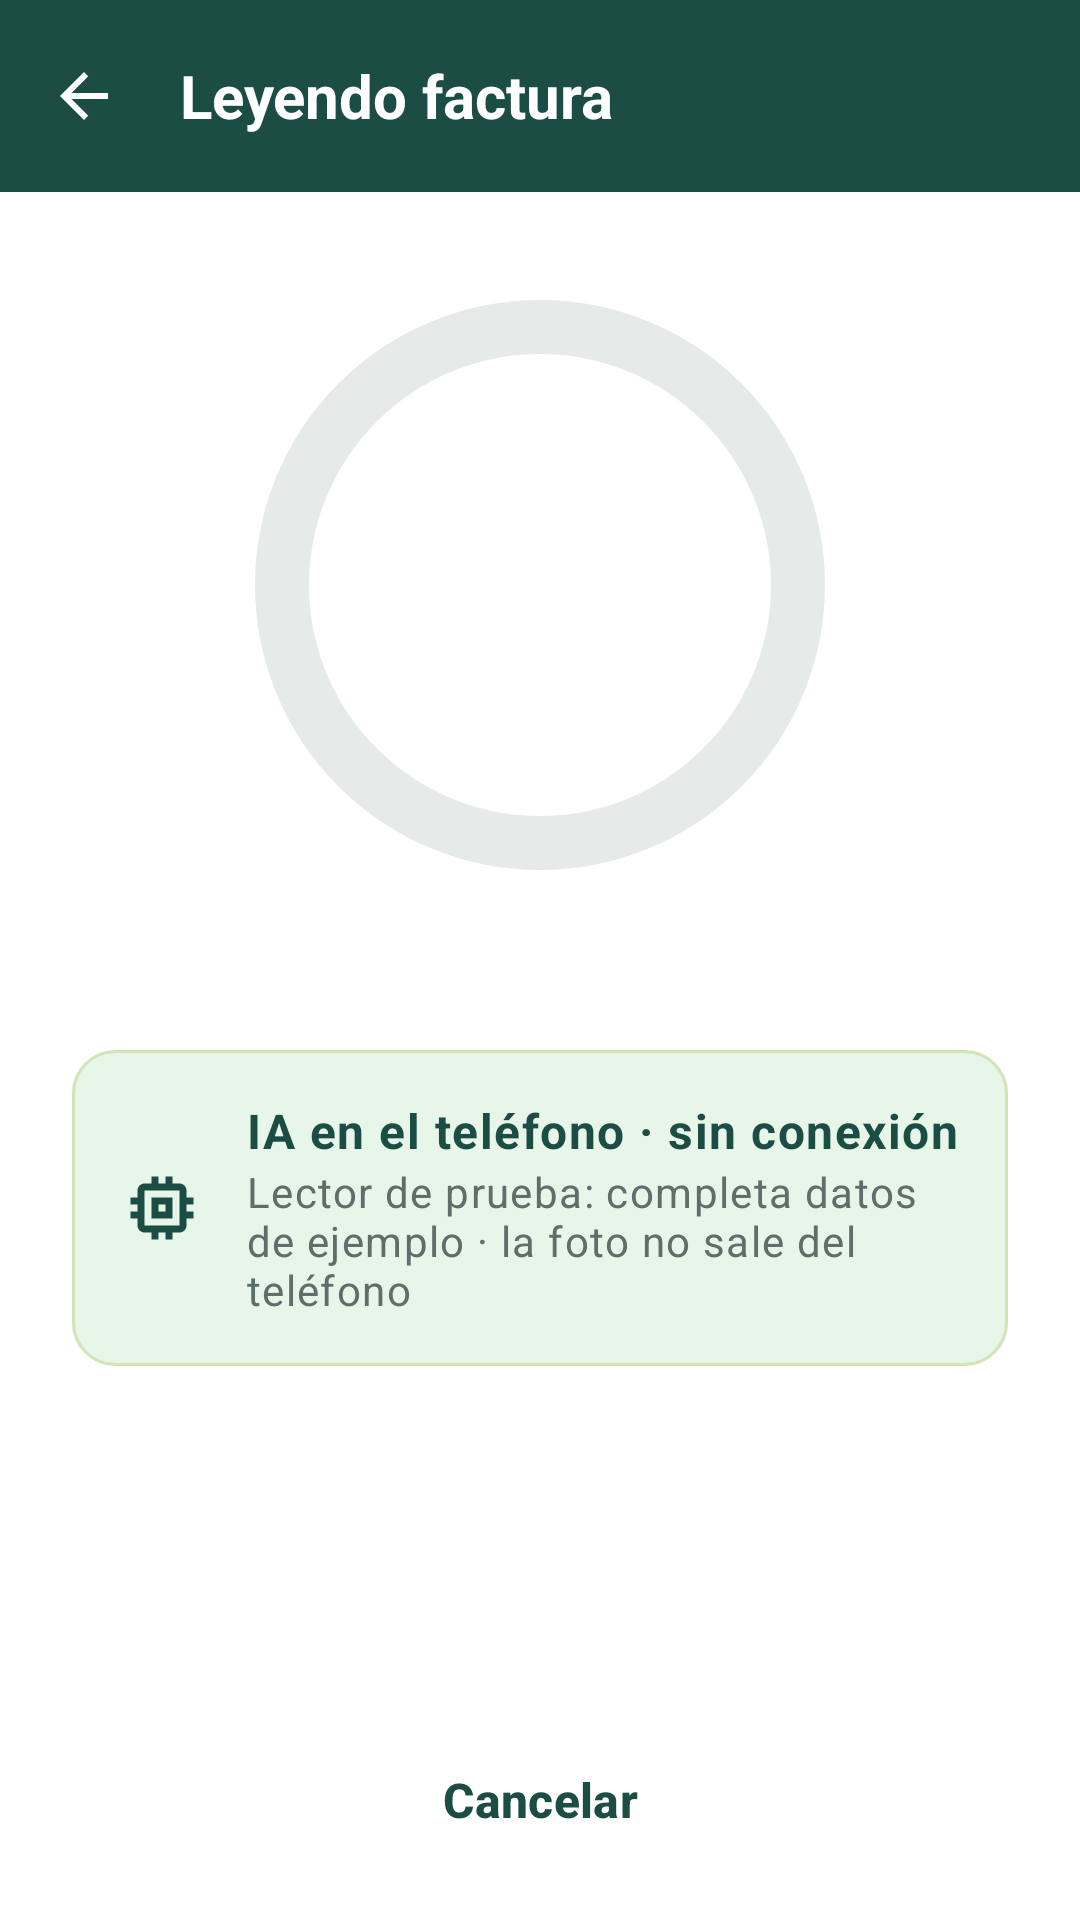

Icon click points for this 1080 × 1920 phone screenshot, format (x=x, y=y):
procesador: (x=162, y=1208)
